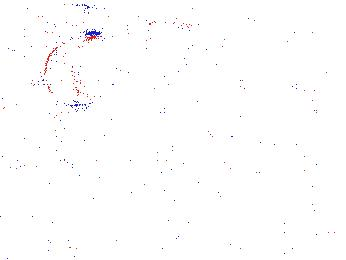moon jellyfish: (104, 20, 209, 86), (44, 35, 100, 108), (259, 27, 344, 74)
